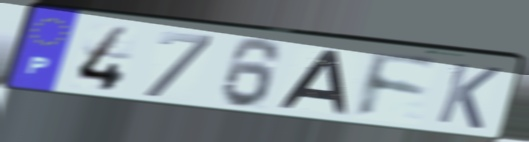4: (72, 24, 128, 93)
6: (218, 36, 282, 110)
7: (142, 29, 216, 99)
A: (275, 47, 351, 117)
F: (354, 49, 441, 121)
K: (432, 60, 505, 132)
